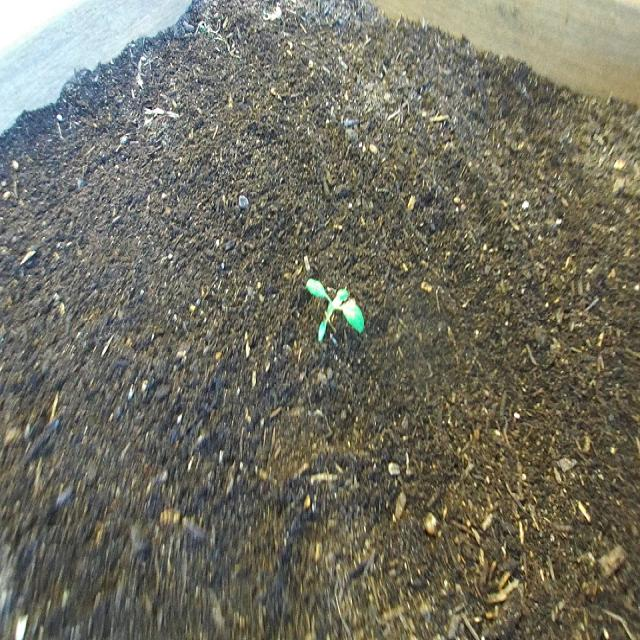Healthy: (304, 270, 368, 348)
